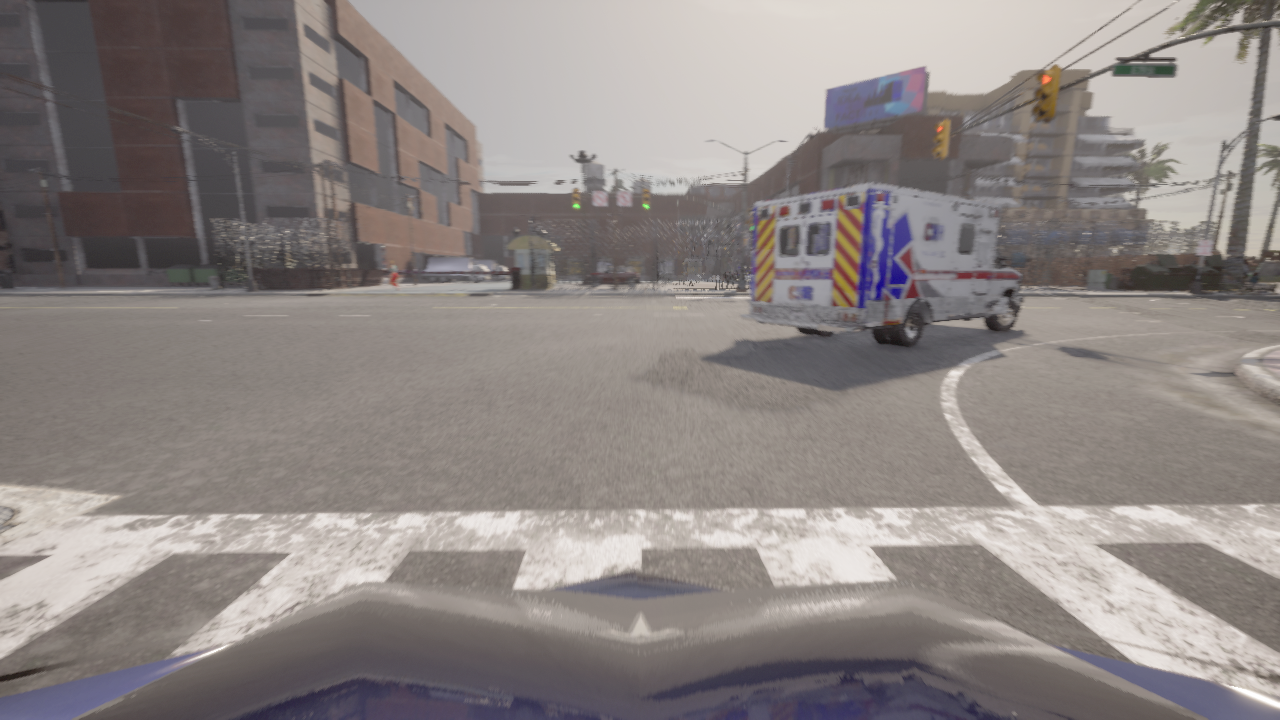cyclist: (0, 569, 1279, 719), (740, 184, 1027, 347), (424, 257, 489, 282), (586, 265, 640, 286), (458, 260, 509, 281), (722, 267, 751, 281), (658, 262, 673, 280), (732, 271, 748, 281), (599, 262, 611, 272), (744, 274, 750, 282)
pedestrian: (390, 260, 398, 291), (1242, 259, 1248, 283), (1248, 272, 1258, 283)
